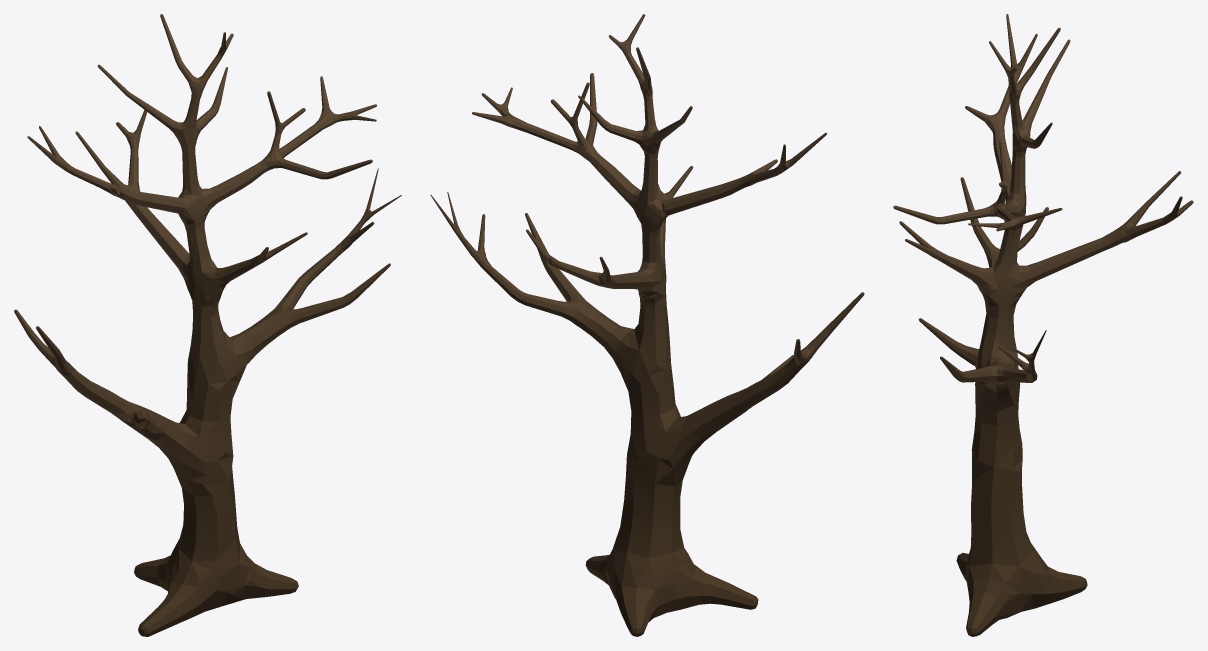
File: Tree_09.fbx
3 renders of one model, left to right at view 1: azimuth 30°, elevation 25°; view 2: azimuth 150°, elevation 25°; view 3: azimuth 270°, elevation 25°, orthographic.
Visible parts, largest first — view 1: Tree_09_LOD0; view 2: Tree_09_LOD0; view 3: Tree_09_LOD0.
Boxes of the visible parts, box(x1,y1,x2,y2) form: Tree_09_LOD0: box(14, 14, 401, 636); Tree_09_LOD0: box(430, 14, 864, 636); Tree_09_LOD0: box(893, 14, 1193, 636).
Size of what is drawn, in the model's own units: 5.25 by 7.42 by 3.53.
